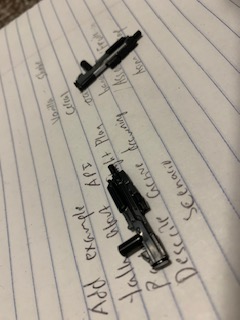rifle: (105, 163, 172, 276), (72, 30, 144, 94)
